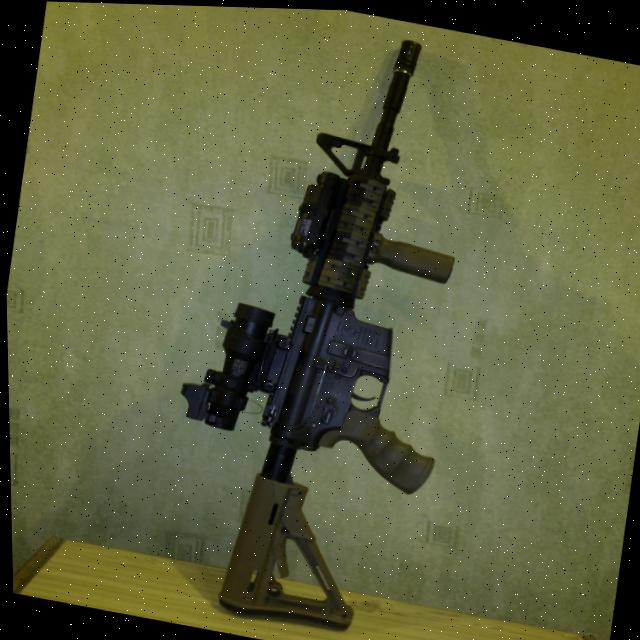firearm: (136, 3, 507, 640)
